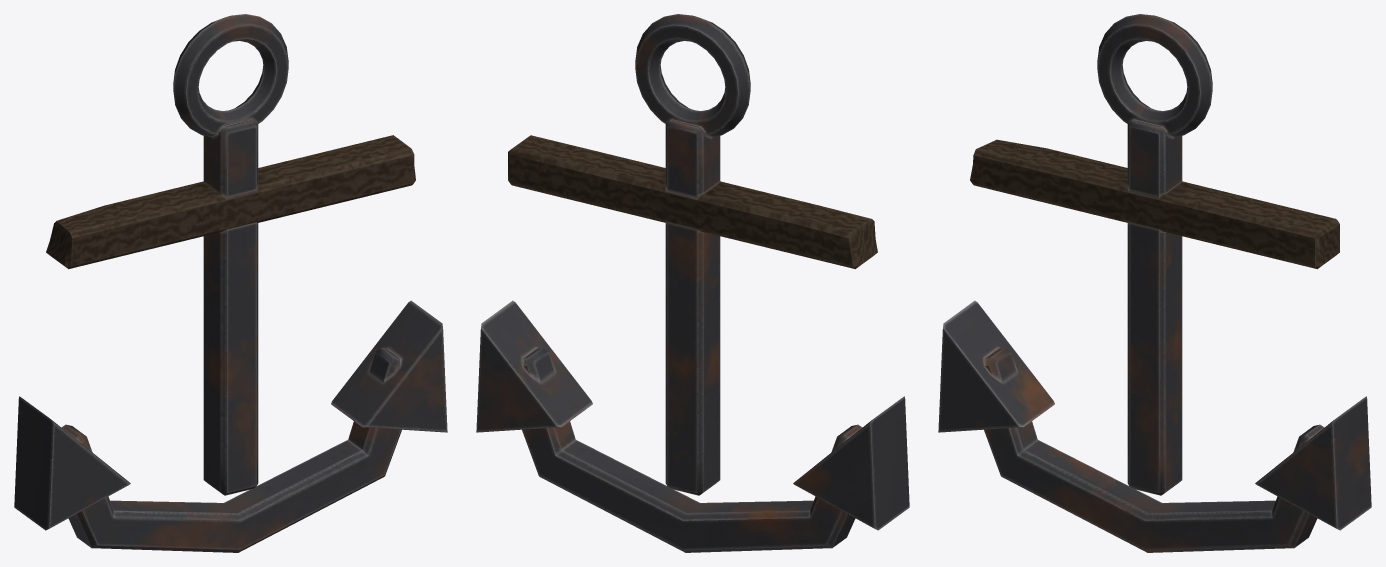
File: anchor.glb
3 renders of one model, left to right at view 1: azimuth 30°, elevation 25°; view 2: azimuth 150°, elevation 25°; view 3: azimuth 330°, elevation 25°, orthographic.
Visible parts, largest first — view 1: anchor; view 2: anchor; view 3: anchor.
Part boxes in pixels (bbox=[...]): anchor: bbox=[14, 14, 447, 552]; anchor: bbox=[476, 14, 909, 552]; anchor: bbox=[938, 14, 1371, 552].
Bounding box in the file's own units: 0.8 × 1.01 × 0.12.
1 material, 1 textured.
